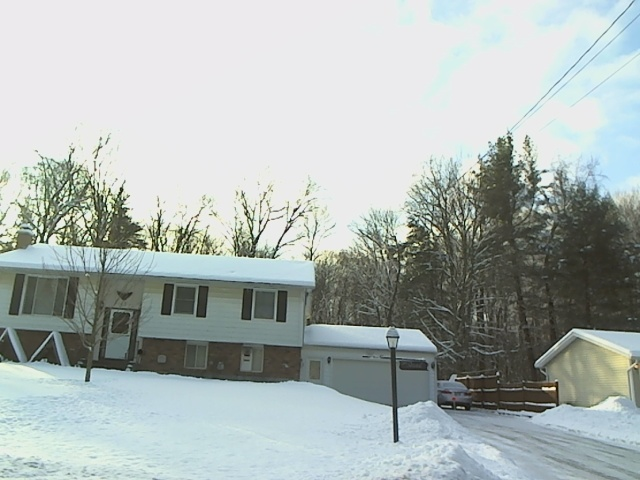Ploughed: (449, 409, 637, 478)
